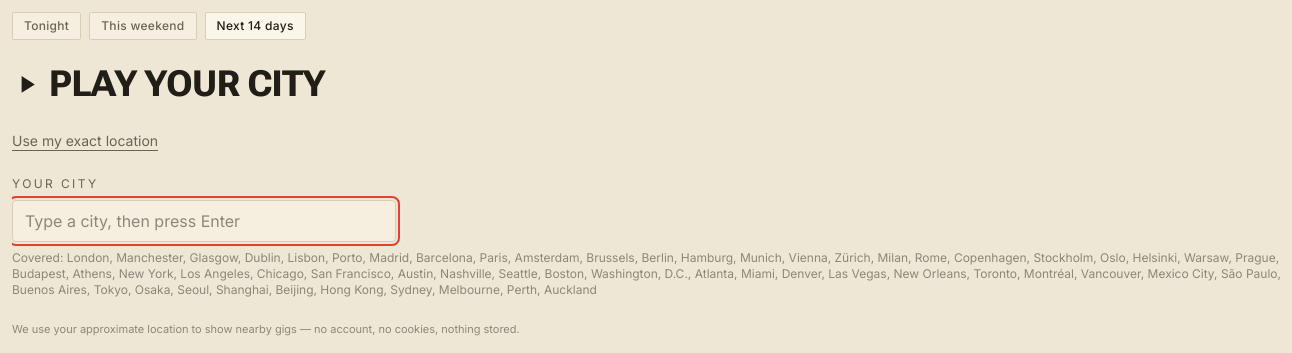
Scenario: CityPicker › CityField commit — miss: an uncovered city shows the recovery copy and does not route
In the field labelled "Your city": (204, 221) [12,200,396,242], type "reykjavik"
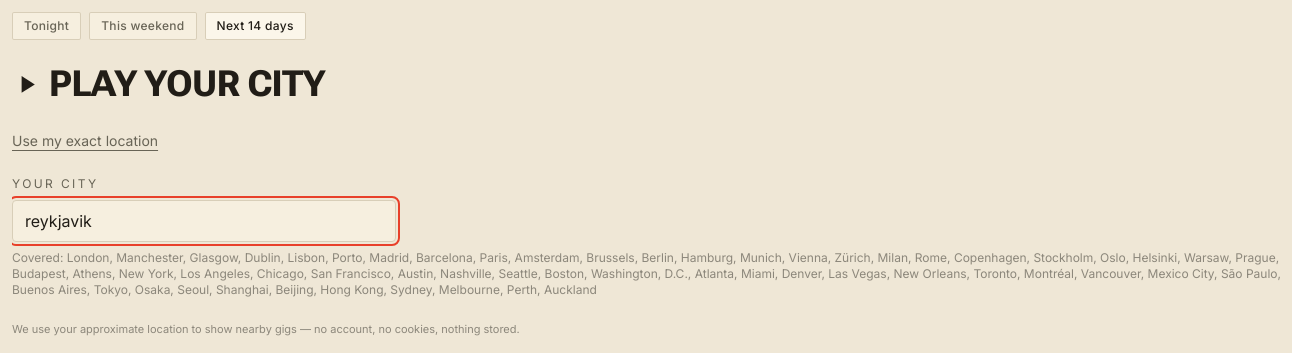
Submit the form labelled "city", box [12,176,1291,298]
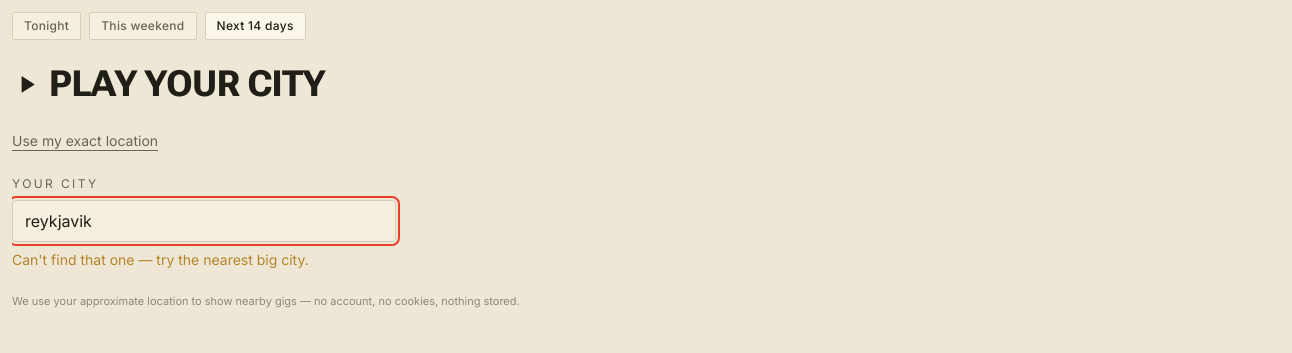
Result: the text "Can't find that one — try the nearest big city." is shown at [12,251,309,268]
